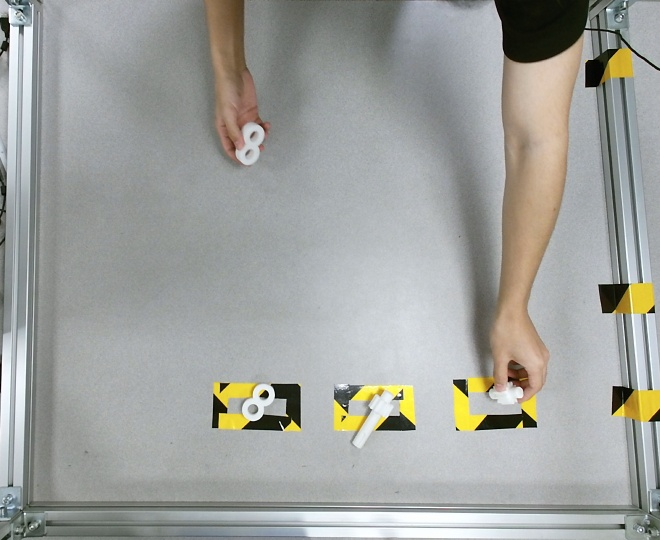stage_1: (235, 122, 265, 165)
